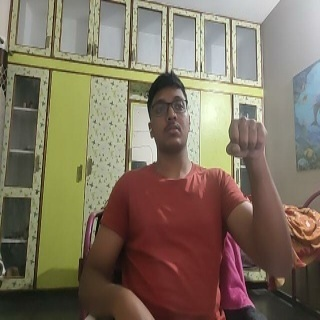Face: (148, 74, 192, 161)
Yes: (227, 117, 270, 176)
